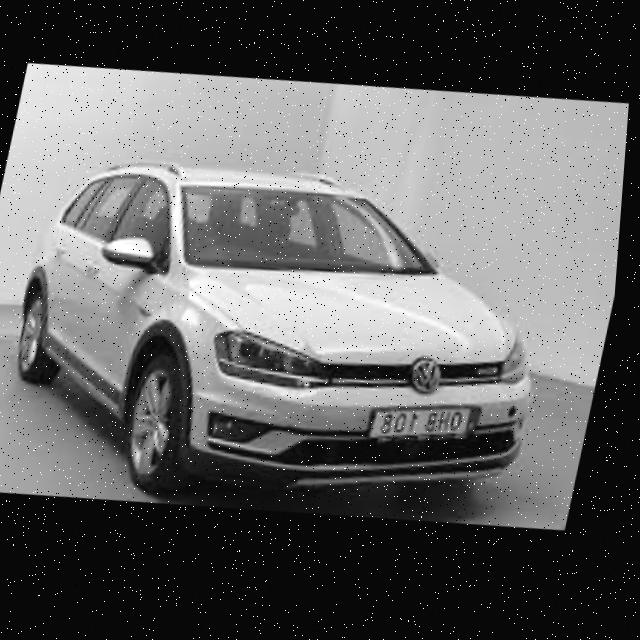license-plates: (370, 409, 478, 436)
